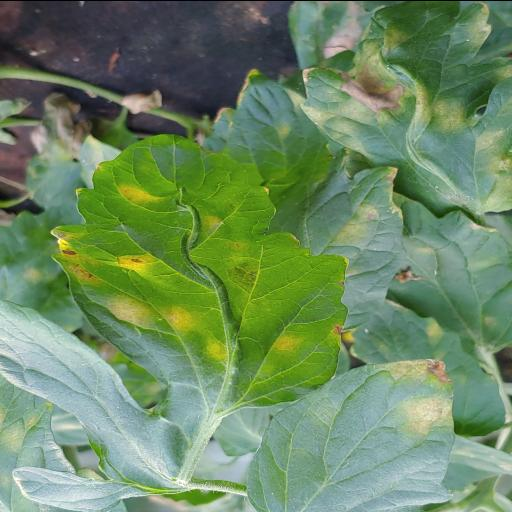disease_tomato: (0, 131, 351, 512), (244, 357, 458, 512)
